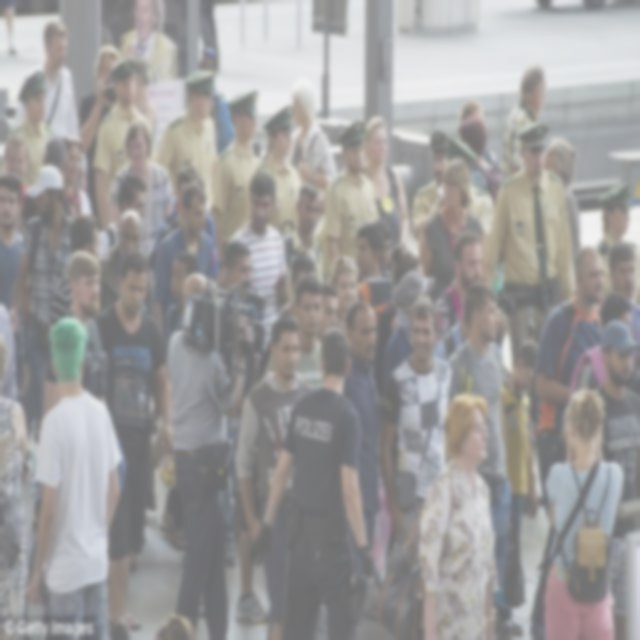pessoa: (245, 323, 384, 639), (164, 271, 256, 638), (22, 314, 122, 638), (376, 391, 502, 638), (95, 250, 174, 630), (232, 311, 319, 638), (445, 278, 515, 638), (482, 118, 580, 369), (210, 237, 272, 625), (527, 244, 606, 524), (541, 386, 626, 638), (376, 294, 456, 550), (7, 160, 77, 434), (588, 316, 640, 638), (494, 338, 544, 638), (498, 64, 548, 351), (342, 297, 383, 639), (225, 168, 289, 354), (45, 214, 102, 412), (92, 56, 156, 232), (152, 182, 222, 337), (106, 115, 179, 259), (210, 88, 260, 292), (417, 154, 485, 304), (0, 324, 32, 639), (152, 66, 220, 213), (52, 248, 110, 407), (320, 118, 383, 264), (77, 42, 125, 220), (12, 19, 80, 140), (567, 291, 635, 403), (282, 76, 340, 202), (542, 133, 583, 306), (251, 104, 304, 237), (456, 98, 507, 236), (0, 170, 31, 397), (361, 115, 412, 252), (96, 205, 158, 317), (152, 164, 219, 260), (382, 268, 435, 388), (592, 178, 640, 310), (433, 228, 485, 345), (280, 179, 326, 291), (96, 172, 148, 264), (196, 41, 236, 158), (146, 438, 187, 550), (20, 136, 70, 224), (3, 130, 43, 239), (353, 220, 395, 322), (602, 238, 640, 348), (292, 272, 326, 392), (132, 61, 178, 147), (118, 0, 178, 60), (408, 128, 448, 218), (272, 254, 318, 328), (57, 133, 94, 222), (324, 251, 362, 335), (152, 278, 185, 350), (218, 476, 238, 570), (0, 298, 17, 402), (386, 240, 424, 285), (436, 318, 469, 364), (372, 216, 396, 277), (314, 285, 339, 343), (496, 304, 512, 382), (0, 0, 18, 55), (490, 244, 506, 296), (447, 135, 457, 161)
